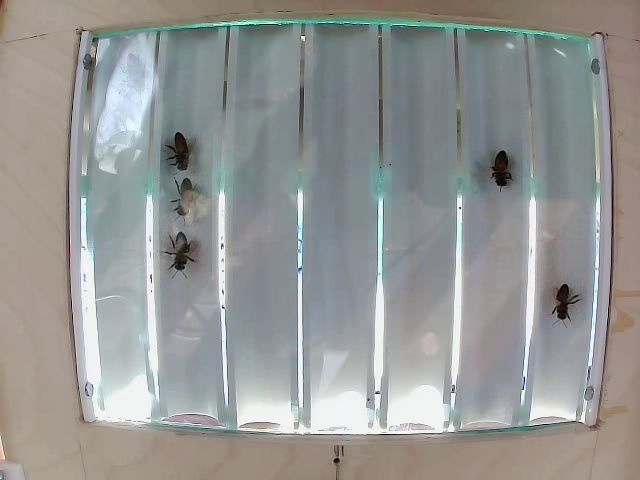bee: (491, 153, 522, 206), (171, 181, 212, 219), (168, 137, 212, 172), (167, 246, 205, 286), (546, 277, 575, 318)
